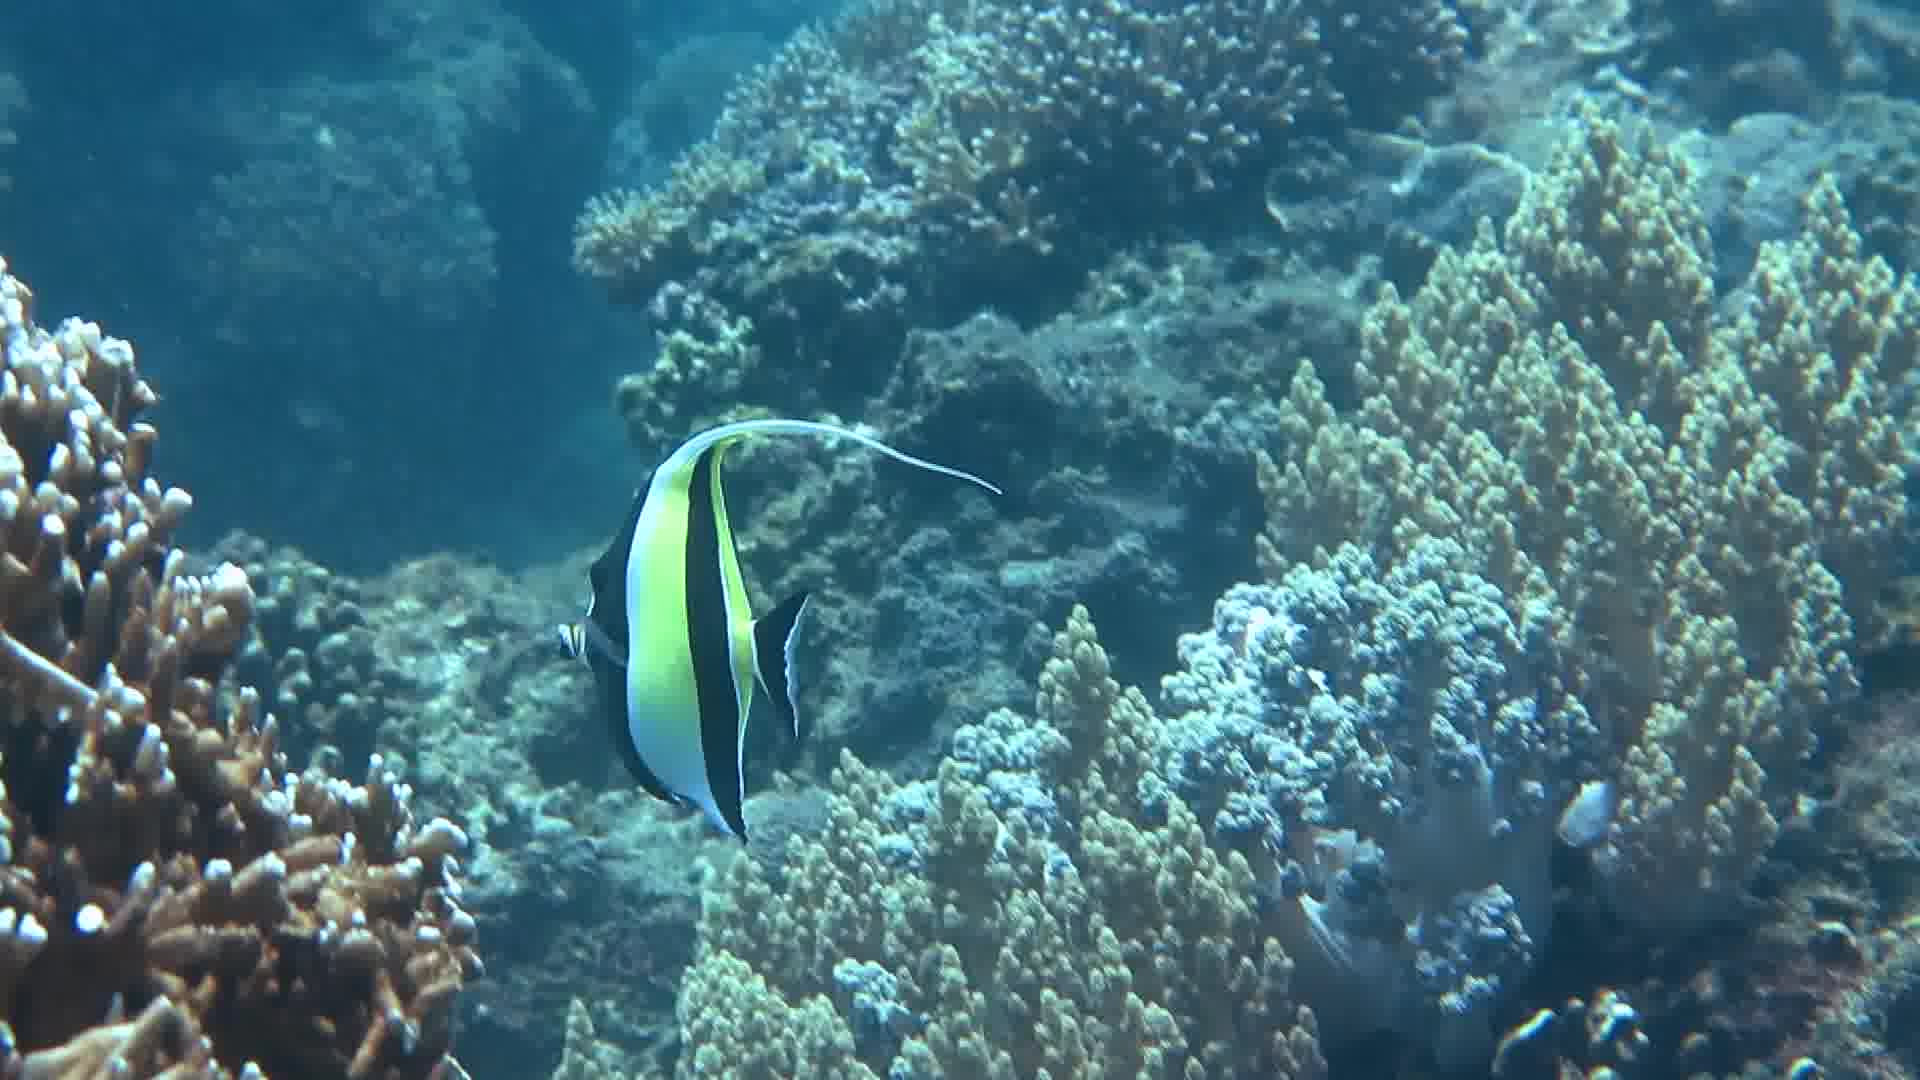Zanclus cornutus: (549, 410, 889, 841)
